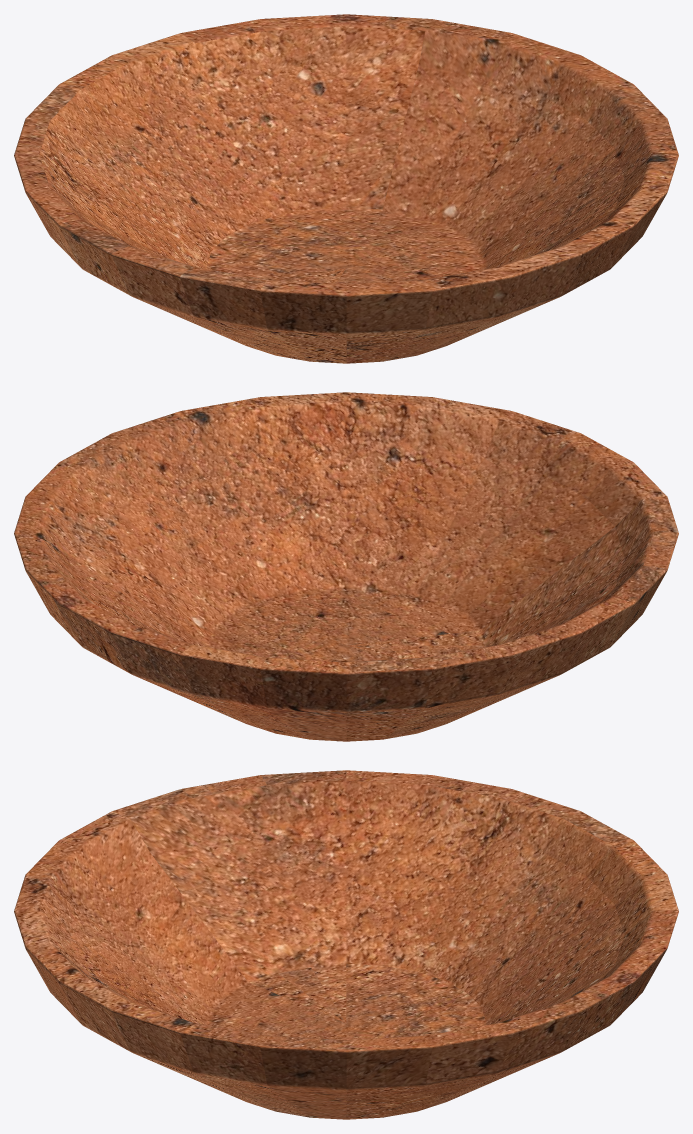
File: ceramic-bowl-v01.glb
3 renders of one model, top to bottom at view 1: azimuth 30°, elevation 25°; view 2: azimuth 150°, elevation 25°; view 3: azimuth 270°, elevation 25°, orthographic.
Parts seen in each view (by area): view 1: ceramic-bowl; view 2: ceramic-bowl; view 3: ceramic-bowl.
Part boxes in pixels (x1,y1,x2,y2): ceramic-bowl: (14, 14, 678, 363); ceramic-bowl: (14, 392, 678, 741); ceramic-bowl: (14, 770, 678, 1119).
Size of the model in its own units: 0.4784 by 0.12 by 0.4784.
Materials: 1 (1 with a texture image).
